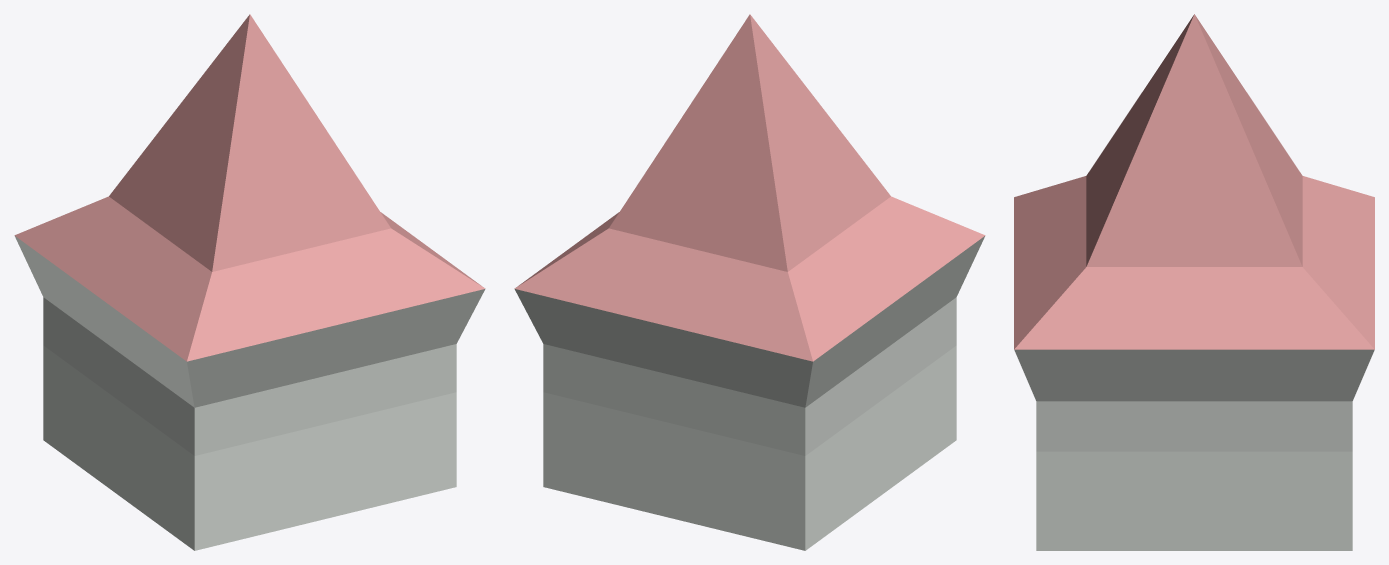
File: tile_026.glb
3 renders of one model, left to right at view 1: azimuth 30°, elevation 25°; view 2: azimuth 150°, elevation 25°; view 3: azimuth 270°, elevation 25°, orthographic. The views are drawn at different scales.
Visible parts, largest first — view 1: tile_026; view 2: tile_026; view 3: tile_026.
Part boxes in pixels (left/top/right/bottom): tile_026: left=14, top=14, right=485, bottom=550; tile_026: left=514, top=14, right=985, bottom=550; tile_026: left=1014, top=14, right=1374, bottom=550.
Size of the model in its own units: 0.6727 by 0.9674 by 0.6727.
